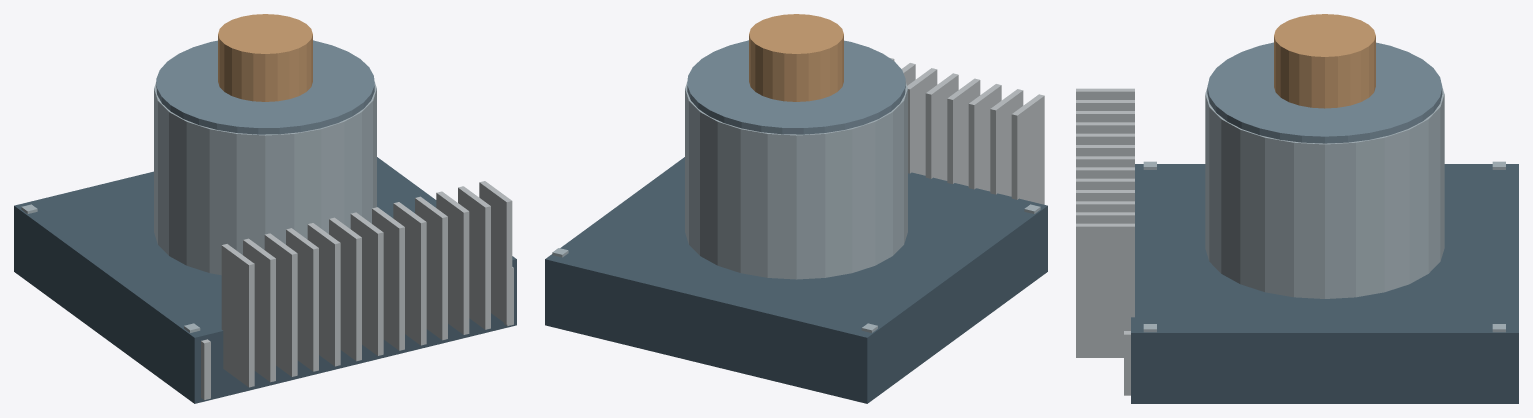
The model's file is 04_L74_PrecisionSpinChuckDrive.glb.
The picture shows the model from 3 angles, left to right: view 1: azimuth 30°, elevation 25°; view 2: azimuth 150°, elevation 25°; view 3: azimuth 270°, elevation 25°; orthographic projection. The views are drawn at different scales.
Parts seen in each view (by area): view 1: PrecisionSpinChuckDrive_Node_0000, PrecisionSpinChuckDrive_Node_0007, PrecisionSpinChuckDrive_Node_0022, PrecisionSpinChuckDrive_Node_0023, PrecisionSpinChuckDrive_Node_0021, PrecisionSpinChuckDrive_Node_0027, PrecisionSpinChuckDrive_Node_0033, PrecisionSpinChuckDrive_Node_0025, PrecisionSpinChuckDrive_Node_0029, PrecisionSpinChuckDrive_Node_0031, PrecisionSpinChuckDrive_Node_0035, PrecisionSpinChuckDrive_Node_0030 (+17 smaller); view 2: PrecisionSpinChuckDrive_Node_0000, PrecisionSpinChuckDrive_Node_0007, PrecisionSpinChuckDrive_Node_0022, PrecisionSpinChuckDrive_Node_0023, PrecisionSpinChuckDrive_Node_0021, PrecisionSpinChuckDrive_Node_0015, PrecisionSpinChuckDrive_Node_0017, PrecisionSpinChuckDrive_Node_0019, PrecisionSpinChuckDrive_Node_0013, PrecisionSpinChuckDrive_Node_0011, PrecisionSpinChuckDrive_Node_0016, PrecisionSpinChuckDrive_Node_0012 (+9 smaller); view 3: PrecisionSpinChuckDrive_Node_0000, PrecisionSpinChuckDrive_Node_0007, PrecisionSpinChuckDrive_Node_0022, PrecisionSpinChuckDrive_Node_0035, PrecisionSpinChuckDrive_Node_0021, PrecisionSpinChuckDrive_Node_0018, PrecisionSpinChuckDrive_Node_0011, PrecisionSpinChuckDrive_Node_0012, PrecisionSpinChuckDrive_Node_0013, PrecisionSpinChuckDrive_Node_0020, PrecisionSpinChuckDrive_Node_0014, PrecisionSpinChuckDrive_Node_0015 (+17 smaller).
Part boxes in pixels (bbox=[...]): PrecisionSpinChuckDrive_Node_0000: bbox=[14, 157, 516, 403]; PrecisionSpinChuckDrive_Node_0007: bbox=[156, 40, 374, 134]; PrecisionSpinChuckDrive_Node_0022: bbox=[218, 14, 312, 101]; PrecisionSpinChuckDrive_Node_0023: bbox=[221, 244, 254, 387]; PrecisionSpinChuckDrive_Node_0021: bbox=[154, 81, 376, 147]; PrecisionSpinChuckDrive_Node_0027: bbox=[307, 223, 340, 366]; PrecisionSpinChuckDrive_Node_0033: bbox=[436, 191, 469, 334]; PrecisionSpinChuckDrive_Node_0025: bbox=[264, 233, 297, 376]; PrecisionSpinChuckDrive_Node_0029: bbox=[350, 212, 383, 355]; PrecisionSpinChuckDrive_Node_0031: bbox=[393, 202, 426, 345]; PrecisionSpinChuckDrive_Node_0035: bbox=[479, 181, 512, 324]; PrecisionSpinChuckDrive_Node_0030: bbox=[372, 207, 404, 350]; PrecisionSpinChuckDrive_Node_0000: bbox=[545, 157, 1047, 403]; PrecisionSpinChuckDrive_Node_0007: bbox=[687, 40, 905, 134]; PrecisionSpinChuckDrive_Node_0022: bbox=[749, 14, 843, 101]; PrecisionSpinChuckDrive_Node_0023: bbox=[1011, 94, 1044, 204]; PrecisionSpinChuckDrive_Node_0021: bbox=[685, 81, 907, 147]; PrecisionSpinChuckDrive_Node_0015: bbox=[685, 161, 907, 220]; PrecisionSpinChuckDrive_Node_0017: bbox=[685, 137, 907, 195]; PrecisionSpinChuckDrive_Node_0019: bbox=[685, 113, 907, 171]; PrecisionSpinChuckDrive_Node_0013: bbox=[685, 185, 907, 243]; PrecisionSpinChuckDrive_Node_0011: bbox=[685, 209, 907, 267]; PrecisionSpinChuckDrive_Node_0016: bbox=[685, 149, 907, 208]; PrecisionSpinChuckDrive_Node_0012: bbox=[685, 198, 907, 255]; PrecisionSpinChuckDrive_Node_0000: bbox=[1131, 164, 1518, 403]; PrecisionSpinChuckDrive_Node_0007: bbox=[1207, 42, 1442, 143]; PrecisionSpinChuckDrive_Node_0022: bbox=[1274, 14, 1375, 108]; PrecisionSpinChuckDrive_Node_0035: bbox=[1076, 223, 1134, 357]; PrecisionSpinChuckDrive_Node_0021: bbox=[1205, 87, 1444, 157]; PrecisionSpinChuckDrive_Node_0018: bbox=[1205, 133, 1444, 196]; PrecisionSpinChuckDrive_Node_0011: bbox=[1205, 223, 1444, 286]; PrecisionSpinChuckDrive_Node_0012: bbox=[1205, 211, 1444, 273]; PrecisionSpinChuckDrive_Node_0013: bbox=[1205, 198, 1444, 260]; PrecisionSpinChuckDrive_Node_0020: bbox=[1205, 107, 1444, 170]; PrecisionSpinChuckDrive_Node_0014: bbox=[1205, 185, 1444, 248]; PrecisionSpinChuckDrive_Node_0015: bbox=[1205, 172, 1444, 234].
Bounding box in the file's own units: 1.02 × 0.8 × 1.13.
